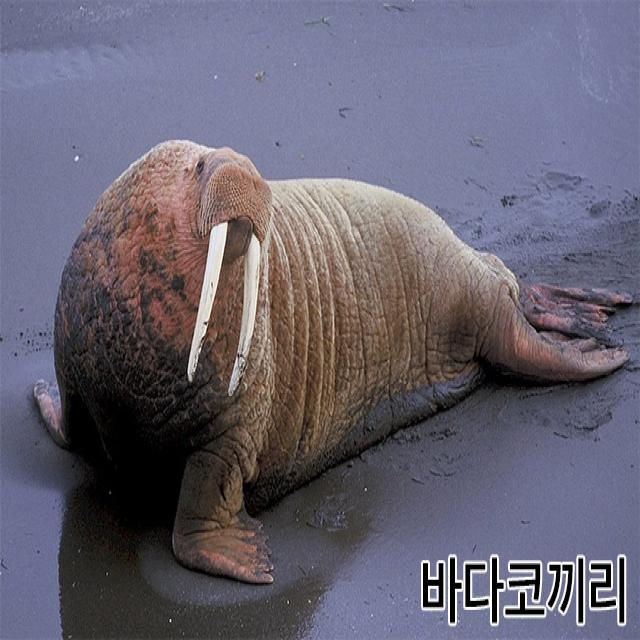walrus: (19, 84, 615, 578)
